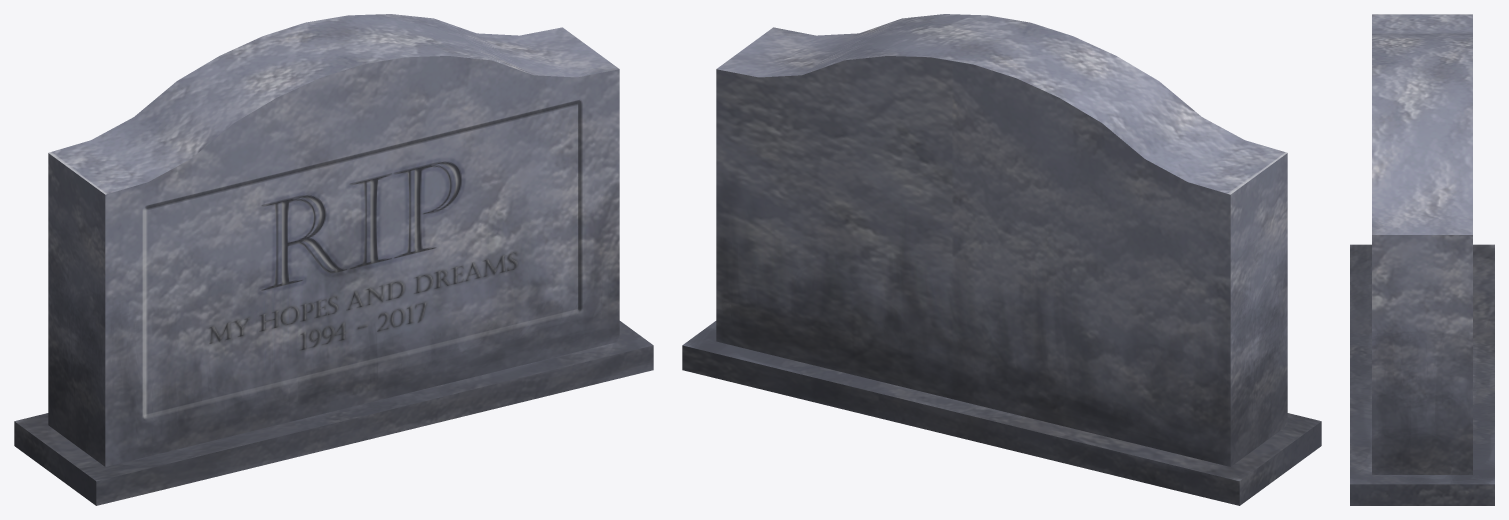
File: grave3.FBX
3 views of the same model, side by side, from view 1: azimuth 30°, elevation 25°; view 2: azimuth 150°, elevation 25°; view 3: azimuth 270°, elevation 25° (orthographic). The views are drawn at different scales.
Visible parts, largest first — view 1: grave3; view 2: grave3; view 3: grave3.
Part boxes in pixels (left/top/right/bottom): grave3: left=14, top=14, right=653, bottom=505; grave3: left=682, top=14, right=1321, bottom=505; grave3: left=1350, top=14, right=1494, bottom=505.
Size of the model in its own units: 23.19 by 14.5 by 5.92.
Materials: 1 (1 with a texture image).
